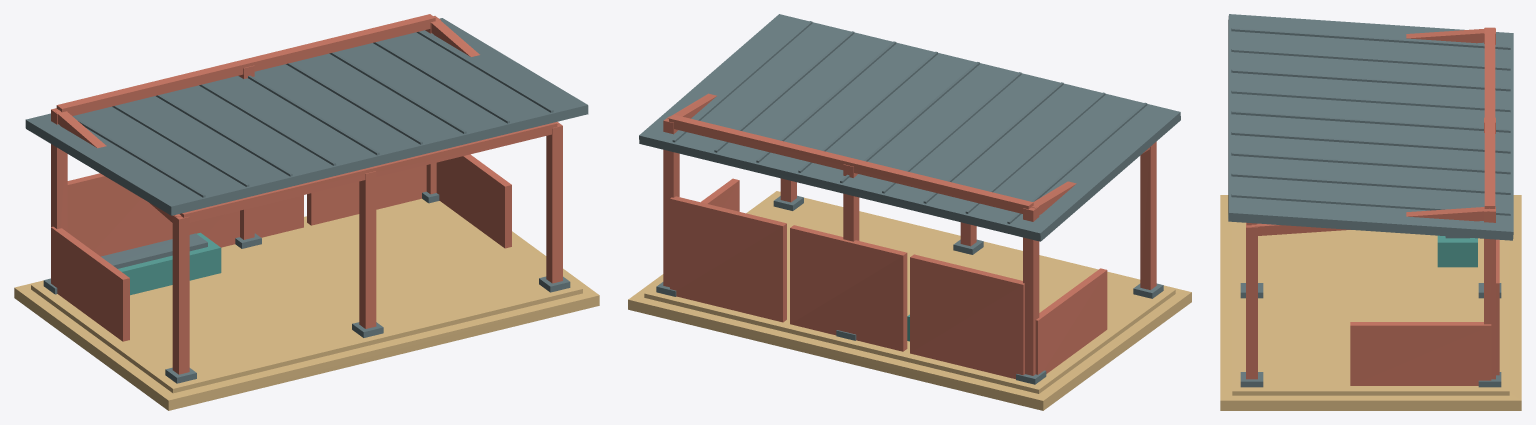
The model's file is Livestock-Shelter.glb.
3 views of the same model, side by side, from view 1: azimuth 30°, elevation 25°; view 2: azimuth 150°, elevation 25°; view 3: azimuth 270°, elevation 25° (orthographic). The views are drawn at different scales.
Visible parts, largest first — view 1: livestock-shelter-static-livestock-shelter-compacted-earth-m, livestock-shelter-static-livestock-shelter-sage-galvanized-r, livestock-shelter-static-livestock-shelter-weathered-timber-, livestock-shelter-static-livestock-shelter-dark-anchor-iron-, livestock-shelter-static-livestock-shelter-blue-grey-trough-; view 2: livestock-shelter-static-livestock-shelter-sage-galvanized-r, livestock-shelter-static-livestock-shelter-weathered-timber-, livestock-shelter-static-livestock-shelter-compacted-earth-m, livestock-shelter-static-livestock-shelter-dark-anchor-iron-; view 3: livestock-shelter-static-livestock-shelter-sage-galvanized-r, livestock-shelter-static-livestock-shelter-compacted-earth-m, livestock-shelter-static-livestock-shelter-weathered-timber-, livestock-shelter-static-livestock-shelter-dark-anchor-iron-, livestock-shelter-static-livestock-shelter-blue-grey-trough-.
Part boxes in pixels (<box>): livestock-shelter-static-livestock-shelter-compacted-earth-m: <box>14,198,599,410</box>; livestock-shelter-static-livestock-shelter-sage-galvanized-r: <box>25,18,588,215</box>; livestock-shelter-static-livestock-shelter-weathered-timber-: <box>51,14,562,374</box>; livestock-shelter-static-livestock-shelter-dark-anchor-iron-: <box>43,31,570,383</box>; livestock-shelter-static-livestock-shelter-blue-grey-trough-: <box>118,232,221,295</box>; livestock-shelter-static-livestock-shelter-sage-galvanized-r: <box>639,14,1180,241</box>; livestock-shelter-static-livestock-shelter-weathered-timber-: <box>663,93,1156,379</box>; livestock-shelter-static-livestock-shelter-compacted-earth-m: <box>628,191,1191,410</box>; livestock-shelter-static-livestock-shelter-dark-anchor-iron-: <box>656,21,1163,384</box>; livestock-shelter-static-livestock-shelter-sage-galvanized-r: <box>1228,14,1513,240</box>; livestock-shelter-static-livestock-shelter-compacted-earth-m: <box>1220,195,1521,410</box>; livestock-shelter-static-livestock-shelter-weathered-timber-: <box>1246,27,1499,385</box>; livestock-shelter-static-livestock-shelter-dark-anchor-iron-: <box>1231,28,1510,387</box>; livestock-shelter-static-livestock-shelter-blue-grey-trough-: <box>1437,235,1477,267</box>.
Size of the model in its own units: 6.05 by 2.7 by 3.75.
